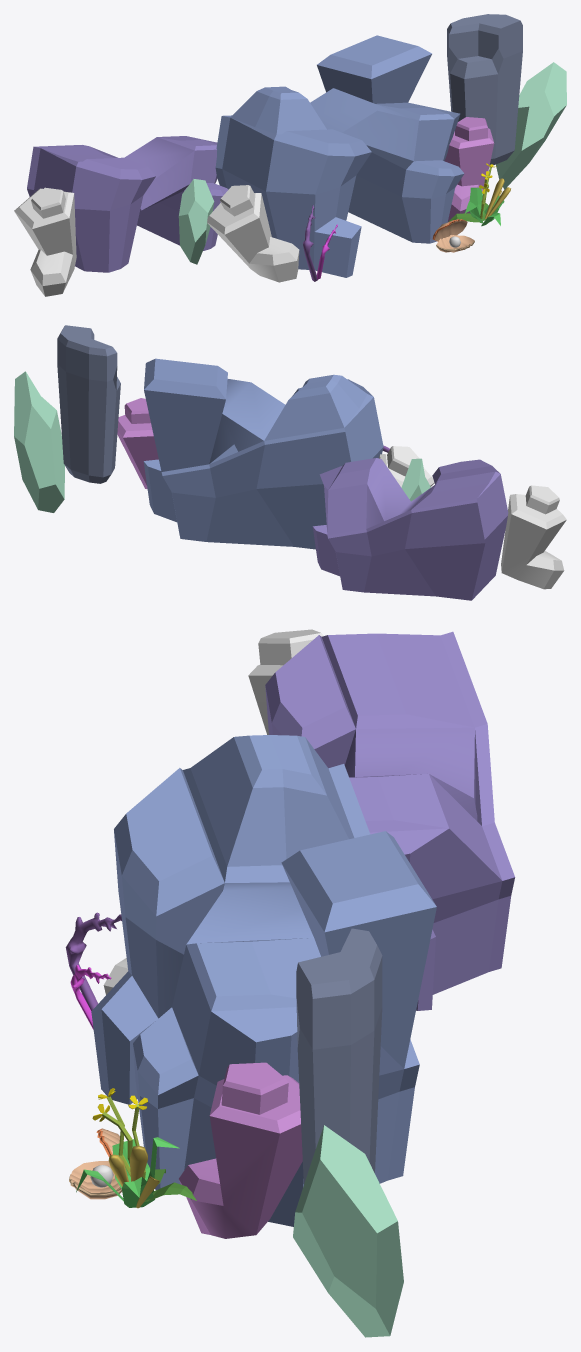
Rendered from dino tunnel.fbx.
3 views of the same model, one above another, from view 1: azimuth 30°, elevation 25°; view 2: azimuth 150°, elevation 25°; view 3: azimuth 270°, elevation 25° (orthographic). The views are drawn at different scales.
Parts seen in each view (by area): view 1: pCylinder3, pCylinder7, polySurface206, pCylinder4, pCylinder6, stone11, pCylinder5, stone10, underwater_flower_10, SHELL_pCube3, polySurface167; view 2: pCylinder3, pCylinder7, polySurface206, stone11, pCylinder6, pCylinder5, pCylinder4, stone10; view 3: pCylinder3, pCylinder7, polySurface206, stone11, pCylinder5, underwater_flower_10, pCylinder6, SHELL_pCube3, polySurface167.
Part boxes in pixels (x1=…): pCylinder3: x1=215, y1=35, x2=464, y2=277; pCylinder7: x1=27, y1=136, x2=228, y2=272; polySurface206: x1=447, y1=14, x2=522, y2=165; pCylinder4: x1=207, y1=185, x2=299, y2=282; pCylinder6: x1=14, y1=187, x2=76, y2=296; stone11: x1=496, y1=62, x2=566, y2=189; pCylinder5: x1=444, y1=117, x2=494, y2=221; stone10: x1=178, y1=179, x2=214, y2=264; underwater_flower_10: x1=448, y1=163, x2=510, y2=226; SHELL_pCube3: x1=432, y1=219, x2=474, y2=252; polySurface167: x1=303, y1=205, x2=317, y2=281; pCylinder3: x1=143, y1=358, x2=383, y2=549; pCylinder7: x1=312, y1=458, x2=508, y2=600; polySurface206: x1=57, y1=325, x2=120, y2=483; stone11: x1=14, y1=371, x2=64, y2=512; pCylinder6: x1=501, y1=485, x2=566, y2=589; pCylinder5: x1=117, y1=398, x2=158, y2=489; pCylinder4: x1=379, y1=446, x2=434, y2=487; stone10: x1=401, y1=458, x2=430, y2=501; pCylinder3: x1=91, y1=735, x2=436, y2=1226; pCylinder7: x1=265, y1=631, x2=515, y2=1010; polySurface206: x1=296, y1=928, x2=382, y2=1184; stone11: x1=293, y1=1125, x2=403, y2=1337; pCylinder5: x1=179, y1=1062, x2=302, y2=1238; underwater_flower_10: x1=76, y1=1088, x2=196, y2=1208; pCylinder6: x1=248, y1=629, x2=323, y2=734; SHELL_pCube3: x1=69, y1=1128, x2=123, y2=1199; polySurface167: x1=65, y1=912, x2=121, y2=1010.
Bounding box in the file's own units: 283 × 89.15 × 102.
